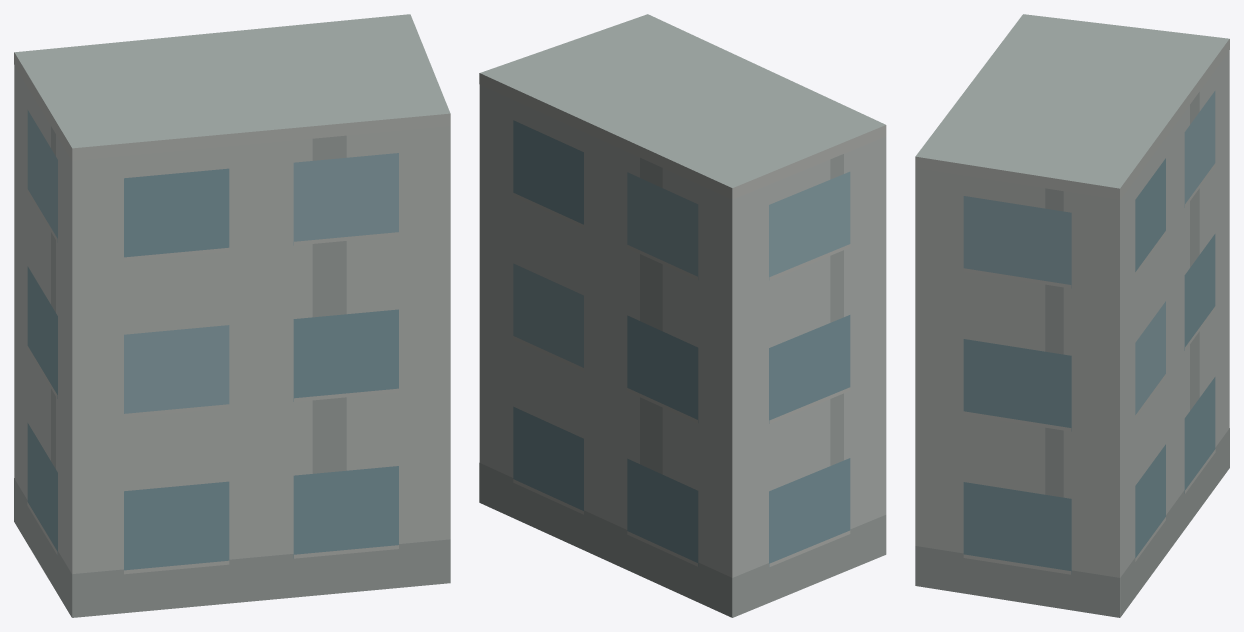
The model's file is survey-upis-33042402.glb.
The picture shows the model from 3 angles, left to right: view 1: azimuth 30°, elevation 25°; view 2: azimuth 150°, elevation 25°; view 3: azimuth 270°, elevation 25°; orthographic projection. The views are drawn at different scales.
Parts seen in each view (by area): view 1: survey-upis-33042402.tmp; view 2: survey-upis-33042402.tmp; view 3: survey-upis-33042402.tmp.
Part boxes in pixels (<box>): survey-upis-33042402.tmp: <box>14,14,450,617</box>; survey-upis-33042402.tmp: <box>479,14,886,617</box>; survey-upis-33042402.tmp: <box>915,14,1229,617</box>.
Size of the model in its own units: 7.99 by 9.15 by 6.08.
